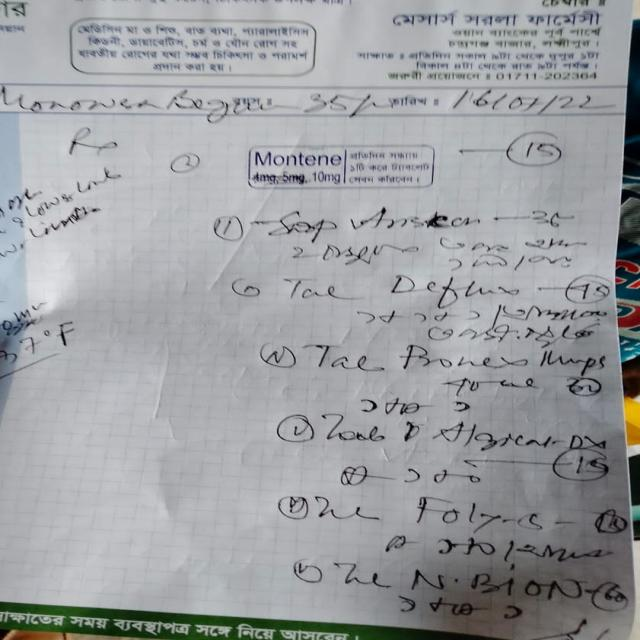Algecal DX: (440, 416, 612, 452)
Deflux: (380, 270, 518, 304)
Foly: (399, 489, 509, 539)
N-Bion: (405, 557, 584, 604)
Pronex: (395, 340, 609, 377)
